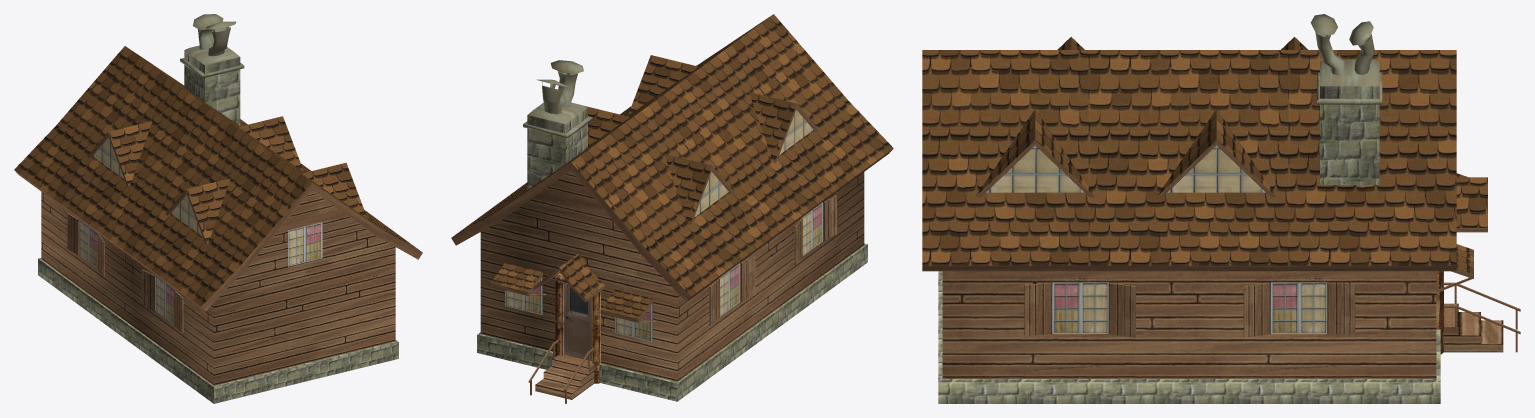
Rendered from old-house.glb.
3 views of the same model, side by side, from view 1: azimuth 30°, elevation 25°; view 2: azimuth 150°, elevation 25°; view 3: azimuth 270°, elevation 25° (orthographic). The views are drawn at different scales.
Parts seen in each view (by area): view 1: roof_3.jpg__, stktex_generic_WoodA.png__, stktex_generic_stoneWallA.png__, stktex_windowsSet_a.png__, stk_generic_ironA.png__; view 2: roof_3.jpg__, stktex_generic_WoodA.png__, stktex_generic_stoneWallA.png__, stktex_windowsSet_a.png__, stk_generic_ironA.png__, door.jpg__, dark-wall-wood.png__; view 3: roof_3.jpg__, stktex_generic_WoodA.png__, stktex_generic_stoneWallA.png__, stktex_windowsSet_a.png__, stk_generic_ironA.png__, dark-wall-wood.png__.
Part boxes in pixels (<box>): roof_3.jpg__: <box>14,46,421,306</box>; stktex_generic_WoodA.png__: <box>15,132,422,385</box>; stktex_generic_stoneWallA.png__: <box>38,50,398,403</box>; stktex_windowsSet_a.png__: <box>79,137,322,324</box>; stk_generic_ironA.png__: <box>180,14,244,78</box>; roof_3.jpg__: <box>453,14,893,318</box>; stktex_generic_WoodA.png__: <box>451,104,892,403</box>; stktex_generic_stoneWallA.png__: <box>477,108,867,401</box>; stktex_windowsSet_a.png__: <box>505,110,822,341</box>; stk_generic_ironA.png__: <box>523,60,592,137</box>; door.jpg__: <box>564,283,591,360</box>; dark-wall-wood.png__: <box>555,273,600,383</box>; roof_3.jpg__: <box>922,37,1487,273</box>; stktex_generic_WoodA.png__: <box>922,140,1520,378</box>; stktex_generic_stoneWallA.png__: <box>938,86,1440,403</box>; stktex_windowsSet_a.png__: <box>986,145,1327,333</box>; stk_generic_ironA.png__: <box>1310,14,1382,104</box>; dark-wall-wood.png__: <box>1436,271,1443,354</box>.
Size of the model in its own units: 6.55 by 7.02 by 10.72.
Materials: 8 (7 with a texture image).
